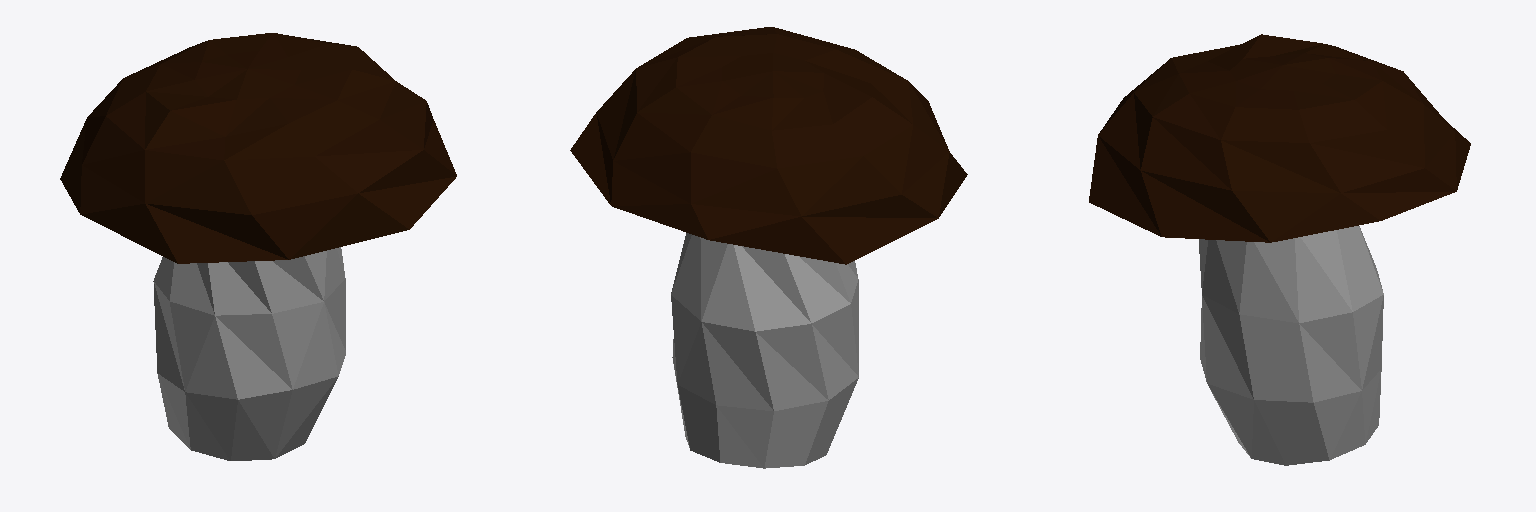
File: mashroom.obj
3 renders of one model, left to right at view 1: azimuth 30°, elevation 25°; view 2: azimuth 150°, elevation 25°; view 3: azimuth 270°, elevation 25°, orthographic.
Parts seen in each view (by area): view 1: Sphere_Sphere.001; view 2: Sphere_Sphere.001; view 3: Sphere_Sphere.001.
Part boxes in pixels (bbox=[...]): Sphere_Sphere.001: bbox=[60, 33, 456, 460]; Sphere_Sphere.001: bbox=[570, 27, 967, 468]; Sphere_Sphere.001: bbox=[1089, 34, 1470, 465].
Size of the model in its own units: 1.93 by 2 by 1.85.